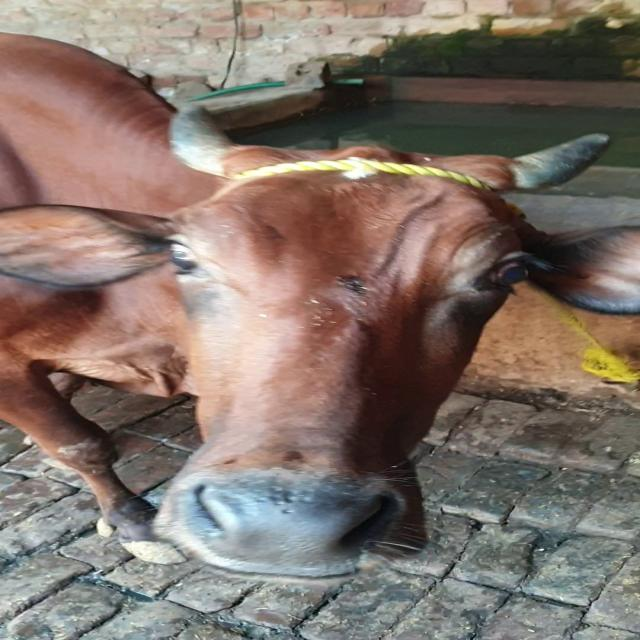cowFace: (122, 137, 582, 576)
